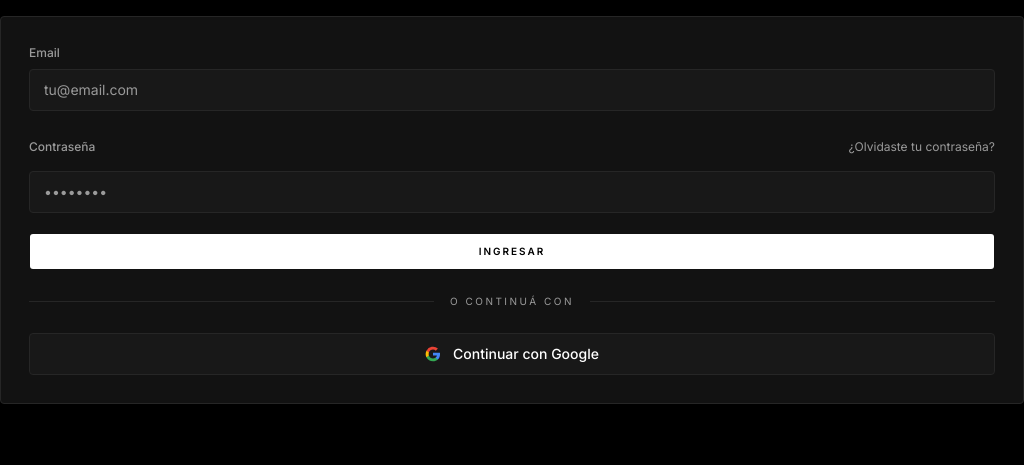
Test: LoginForm › validates before submitting
The image size is (1024, 465).
Click the button "Ingresar": (512, 252) left=29, top=233, right=995, bottom=270
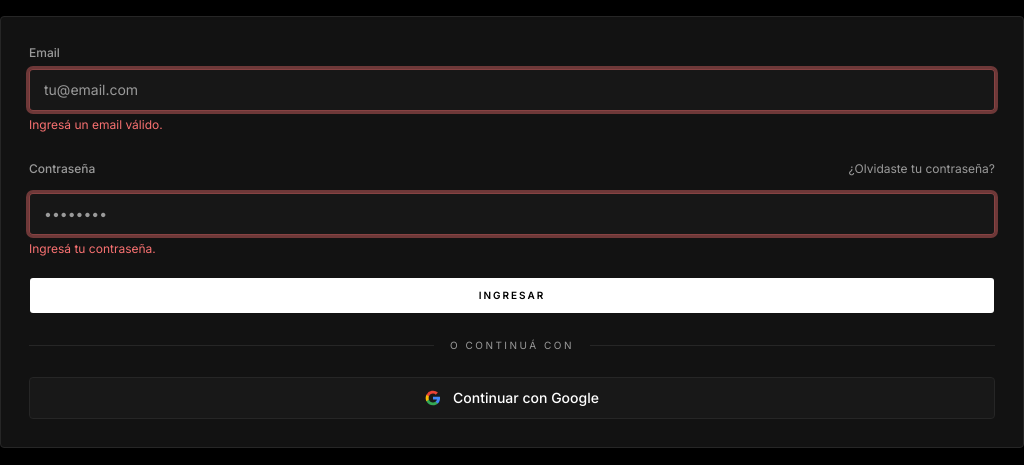
Result: the text "Ingresá un email válido." is shown at left=29, top=117, right=163, bottom=132
